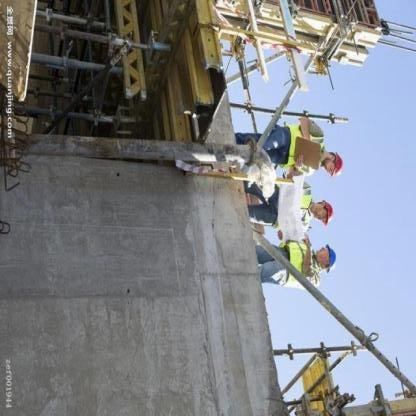blue: (326, 243, 340, 271)
red: (330, 146, 346, 179), (324, 199, 336, 223)
vest: (286, 127, 325, 173), (291, 233, 321, 290), (300, 184, 315, 227)
